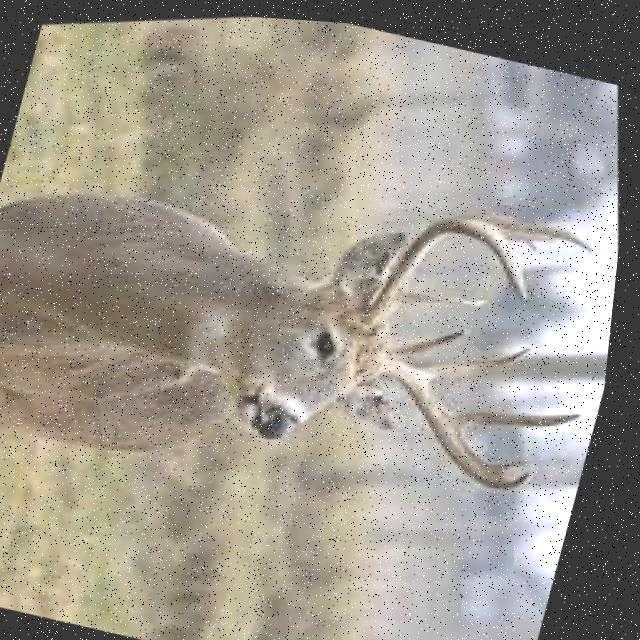E1: (493, 452, 541, 465)
L-F: (365, 209, 534, 324)
L-G1: (403, 286, 493, 300)
R-G1: (397, 321, 477, 352)
R-G2: (421, 339, 538, 374)
R-G3: (459, 405, 590, 424)
